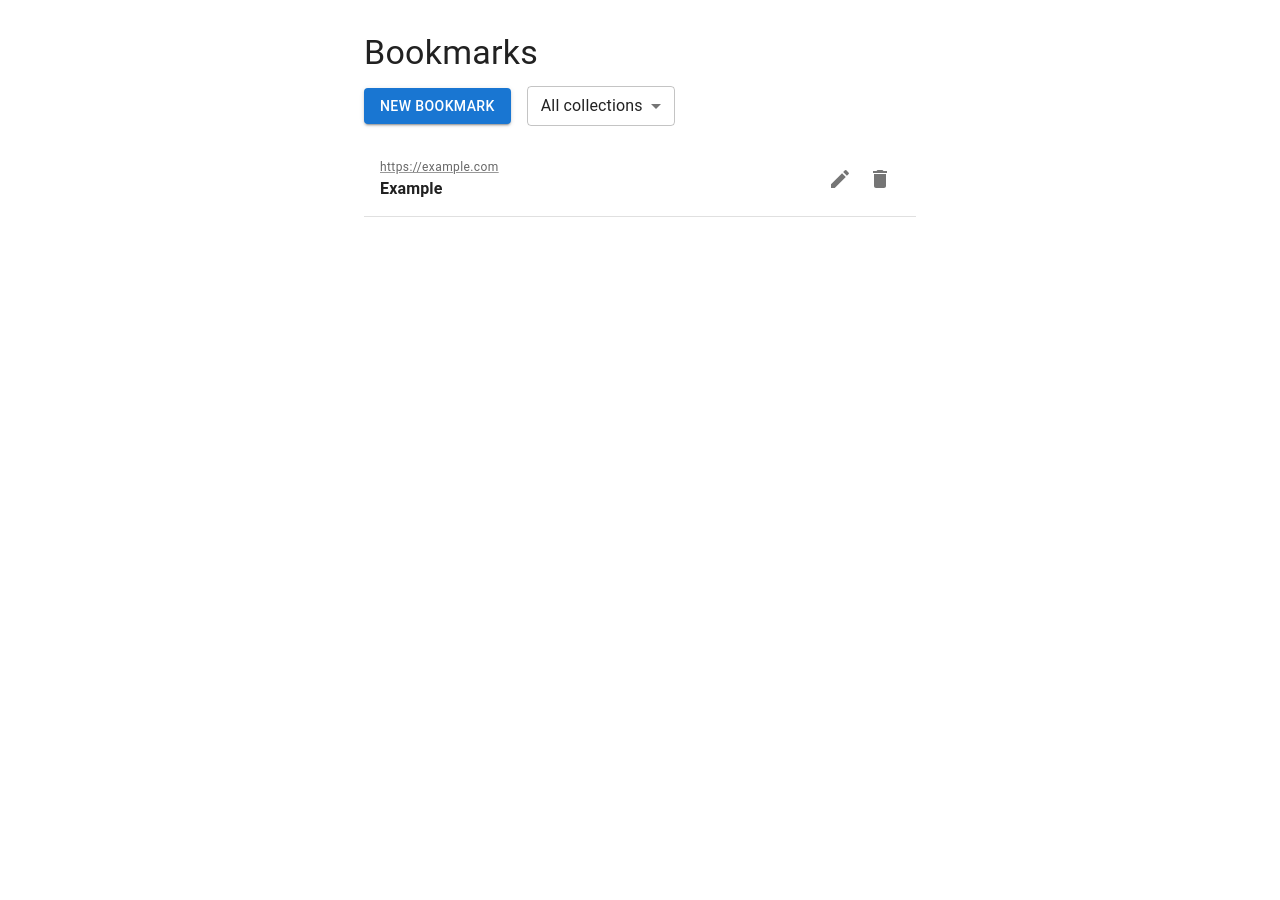
it: Bookmarks — delete › shows an error when deleting fails
This screenshot has width=1280, height=900.
Expected: the heading "Example" is shown, top-left (380, 179), bottom-right (442, 198)
Click the button named "delete example" at (880, 179), box top-left (860, 159), bottom-right (900, 199)
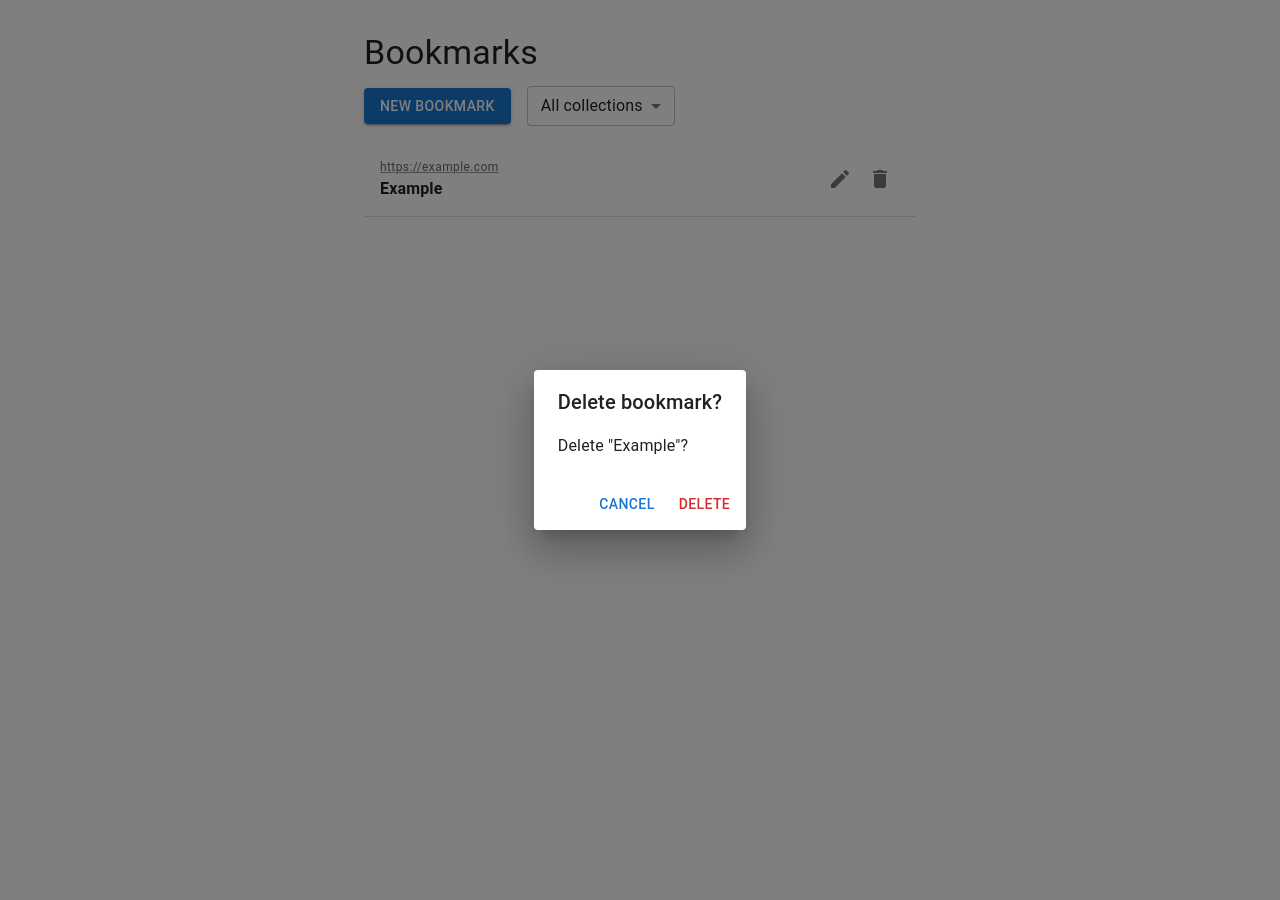
Click the button "Delete" at (704, 504), box top-left (671, 486), bottom-right (738, 522)
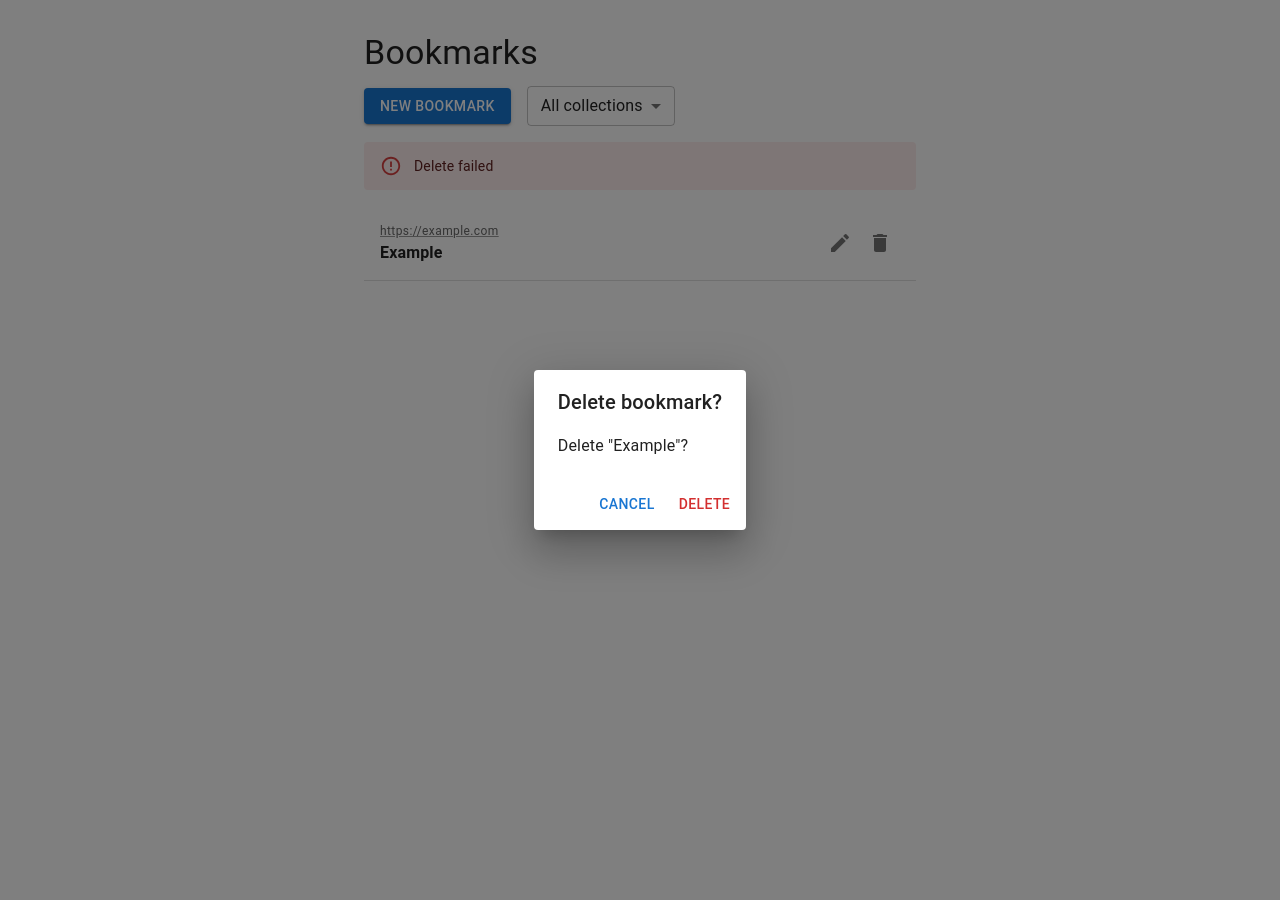
Expected: the heading "Example" is shown, top-left (380, 243), bottom-right (442, 262)
Now the text "Delete failed" is shown, box top-left (414, 158), bottom-right (494, 174)
